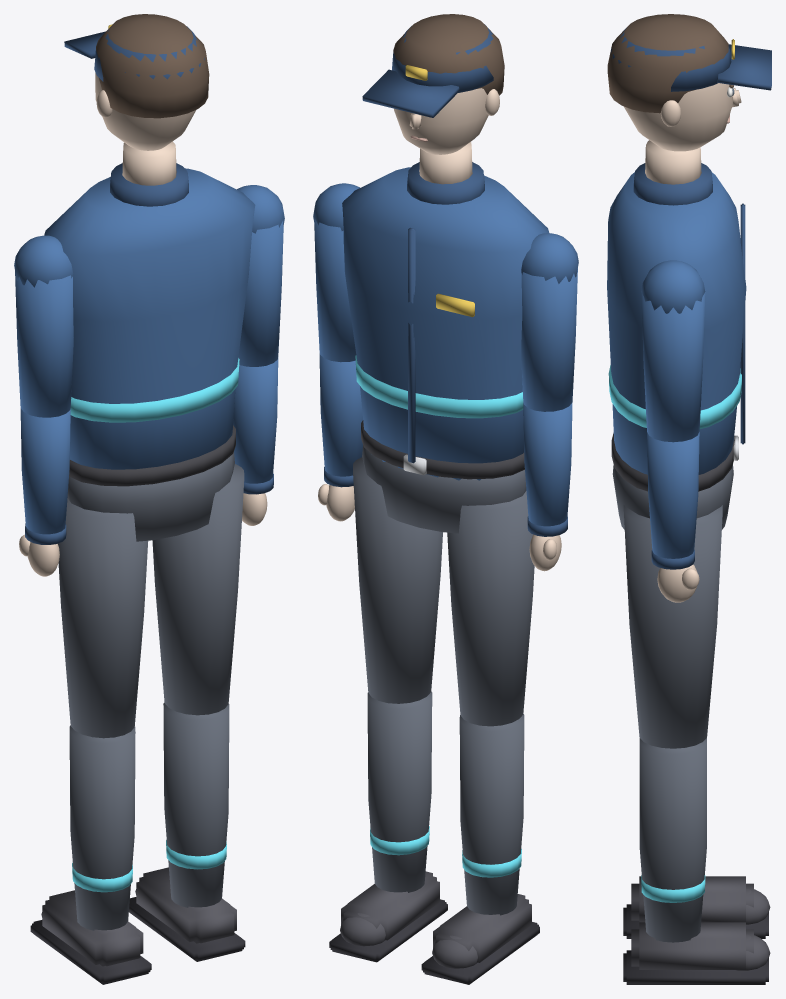
The model's file is delivery_driver.glb.
3 views of the same model, side by side, from view 1: azimuth 30°, elevation 25°; view 2: azimuth 150°, elevation 25°; view 3: azimuth 270°, elevation 25° (orthographic).
Visible parts, largest first — view 1: Driver_Torso, Driver_KneeL, Driver_KneeR, Driver_ThighL, Driver_ThighR, Driver_Head, Driver_UpperArmL, Driver_Pelvis, Driver_ForearmL, Driver_UpperArmR, Driver_ForearmR; view 2: Driver_Torso, Driver_KneeR, Driver_KneeL, Driver_ThighL, Driver_ThighR, Driver_Head, Driver_UpperArmL, Driver_Pelvis, Driver_ForearmL, Driver_ForearmR, Driver_UpperArmR; view 3: Driver_Torso, Driver_KneeR, Driver_ThighR, Driver_Head, Driver_UpperArmR, Driver_ForearmR, Driver_KneeL, Driver_Pelvis.
Part boxes in pixels (x1,y1,x2,y2): Driver_Torso: (44, 141, 255, 469); Driver_KneeL: (30, 725, 151, 984); Driver_KneeR: (129, 702, 245, 961); Driver_ThighL: (58, 498, 148, 738); Driver_ThighR: (152, 464, 244, 715); Driver_Head: (64, 14, 209, 150); Driver_UpperArmL: (14, 235, 73, 417); Driver_Pelvis: (67, 425, 235, 541); Driver_ForearmL: (19, 408, 70, 576); Driver_UpperArmR: (237, 185, 284, 366); Driver_ForearmR: (233, 357, 278, 525); Driver_Torso: (342, 142, 549, 480); Driver_KneeR: (329, 691, 447, 962); Driver_KneeL: (421, 714, 539, 984); Driver_ThighL: (447, 491, 534, 726); Driver_ThighR: (353, 457, 442, 703); Driver_Head: (362, 14, 504, 154); Driver_UpperArmL: (521, 233, 578, 411); Driver_Pelvis: (361, 420, 526, 533); Driver_ForearmL: (523, 402, 572, 571); Driver_ForearmR: (318, 353, 362, 521); Driver_UpperArmR: (313, 183, 359, 362); Driver_Torso: (607, 140, 746, 474); Driver_KneeR: (623, 738, 770, 984); Driver_ThighR: (623, 505, 722, 748); Driver_Head: (607, 14, 771, 151); Driver_UpperArmR: (641, 260, 705, 442); Driver_ForearmR: (647, 432, 699, 602); Driver_KneeL: (623, 876, 770, 938); Driver_Pelvis: (611, 433, 738, 529).
Size of the model in its own units: 0.5292 by 1.79 by 0.2887.
